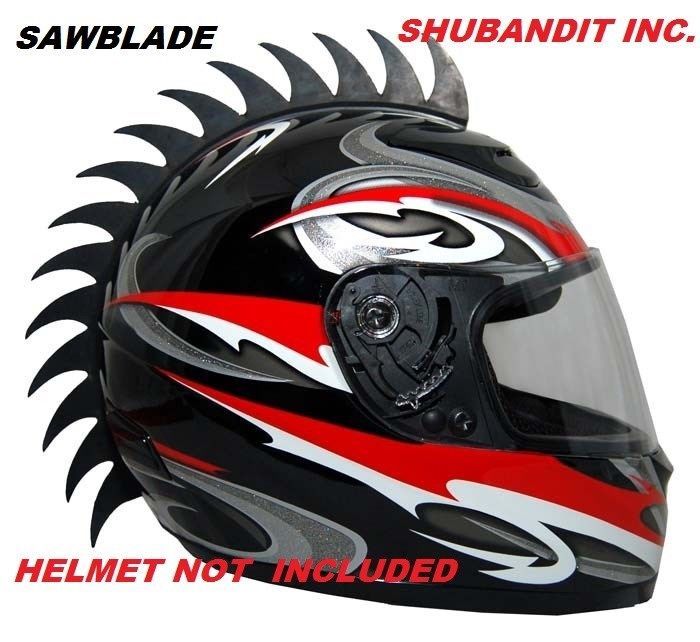with_helmet: (20, 31, 700, 620)
